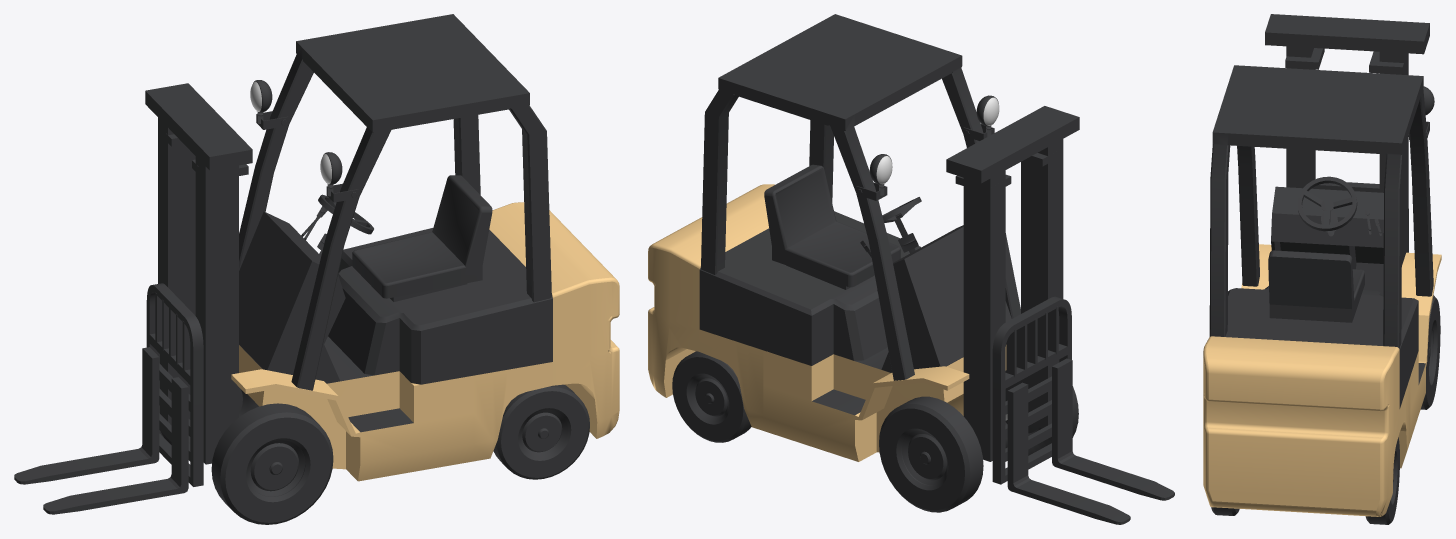
The model's file is sparky.fbx.
3 views of the same model, side by side, from view 1: azimuth 30°, elevation 25°; view 2: azimuth 150°, elevation 25°; view 3: azimuth 270°, elevation 25° (orthographic). The views are drawn at different scales.
Parts seen in each view (by area): view 1: Roof.002, Cube_3_2.002, Cube_3.002, Cube_12_2_2.002, Panel.002, Tube.002, Cube_13_2.002, Cube_4.002, Tube_2.002, Cube_12.002, Cube_6.002, Sweep.002 (+3 smaller); view 2: Roof.002, Cube_3_2.002, Cube_12_2_2.002, Cube_3.002, Cube_13_2.002, Tube.002, Panel.002, Cube_12.002, Cube_4.002, Cube_6.002, Sweep.002, Tube_2.002 (+5 smaller); view 3: Cube_3_2.002, Roof.002, Cube_3.002, Panel.002, Cube_12.002, Cube_6.002, Cube_12_2_2.002, Cube_4.002, Tube_3.002, Tube.002, Cube_13_3.002, Tube_2.002 (+1 smaller).
Boxes of the visible parts, bbox=[...] form: Roof.002: bbox=[239, 14, 551, 390]; Cube_3_2.002: bbox=[231, 202, 619, 481]; Cube_3.002: bbox=[328, 228, 552, 384]; Cube_12_2_2.002: bbox=[158, 117, 238, 464]; Panel.002: bbox=[239, 211, 345, 383]; Tube.002: bbox=[160, 389, 333, 524]; Cube_13_2.002: bbox=[14, 347, 188, 514]; Cube_4.002: bbox=[352, 232, 482, 298]; Tube_2.002: bbox=[493, 384, 589, 479]; Cube_12.002: bbox=[145, 83, 252, 170]; Cube_6.002: bbox=[432, 175, 492, 275]; Sweep.002: bbox=[146, 283, 203, 486]; Roof.002: bbox=[701, 14, 1020, 380]; Cube_3_2.002: bbox=[648, 184, 1006, 461]; Cube_12_2_2.002: bbox=[963, 139, 1063, 461]; Cube_3.002: bbox=[699, 211, 920, 365]; Cube_13_2.002: bbox=[1007, 358, 1174, 524]; Tube.002: bbox=[879, 370, 1078, 512]; Panel.002: bbox=[877, 225, 1011, 372]; Cube_12.002: bbox=[946, 106, 1079, 183]; Cube_4.002: bbox=[772, 221, 900, 287]; Cube_6.002: bbox=[764, 164, 836, 249]; Sweep.002: bbox=[992, 296, 1071, 484]; Tube_2.002: bbox=[672, 351, 751, 442]; Cube_3_2.002: bbox=[1203, 244, 1441, 516]; Roof.002: bbox=[1209, 65, 1433, 348]; Cube_3.002: bbox=[1215, 286, 1418, 408]; Panel.002: bbox=[1271, 186, 1383, 293]; Cube_12.002: bbox=[1265, 14, 1429, 54]; Cube_6.002: bbox=[1268, 250, 1354, 309]; Cube_12_2_2.002: bbox=[1286, 46, 1408, 266]; Cube_4.002: bbox=[1269, 269, 1364, 322]; Tube_3.002: bbox=[1297, 176, 1357, 231]; Tube.002: bbox=[1420, 295, 1440, 409]; Cube_13_3.002: bbox=[1285, 48, 1403, 74]; Tube_2.002: bbox=[1211, 437, 1399, 524].
Bounding box in the file's own units: 48.37 × 34.25 × 19.96.
